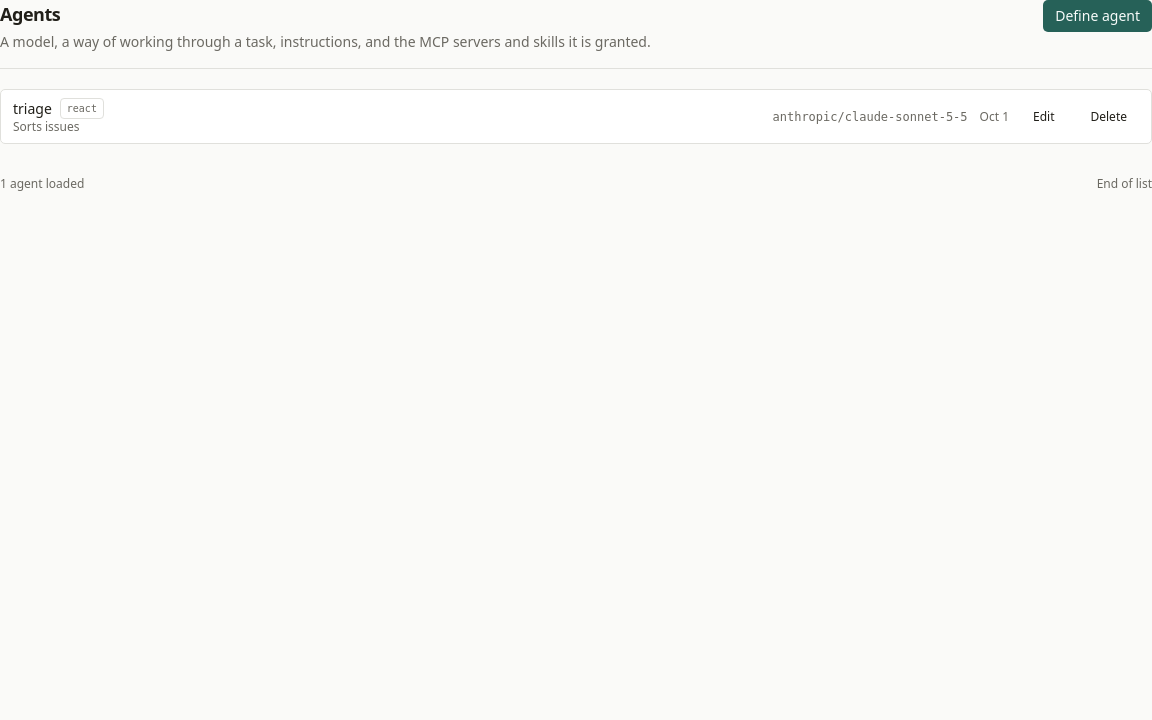
Test case: says an agent is found by its description
Click the button "Define agent" at [1098, 16], box [1043,0,1151,32]
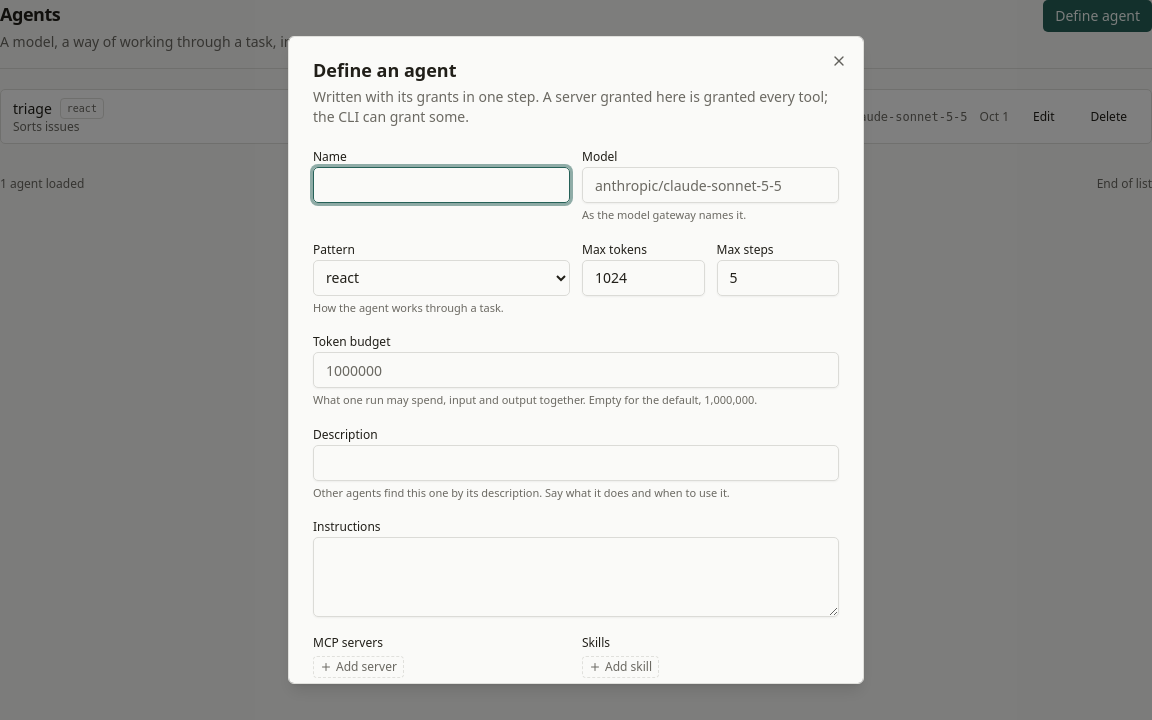
Expected: the text "Other agents find this one by its description" is shown, [313,484,730,500]
